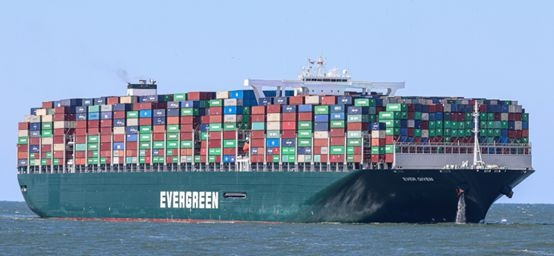Cargoship: (14, 54, 537, 229)
